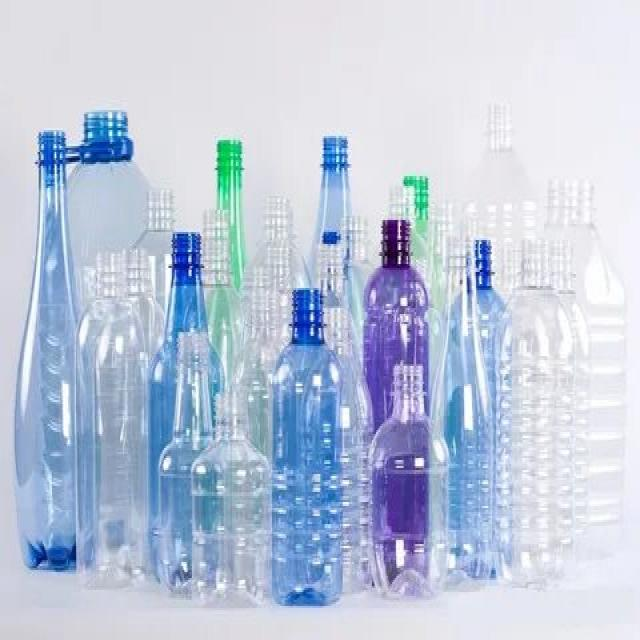blue: (15, 128, 84, 574), (276, 287, 344, 608)
